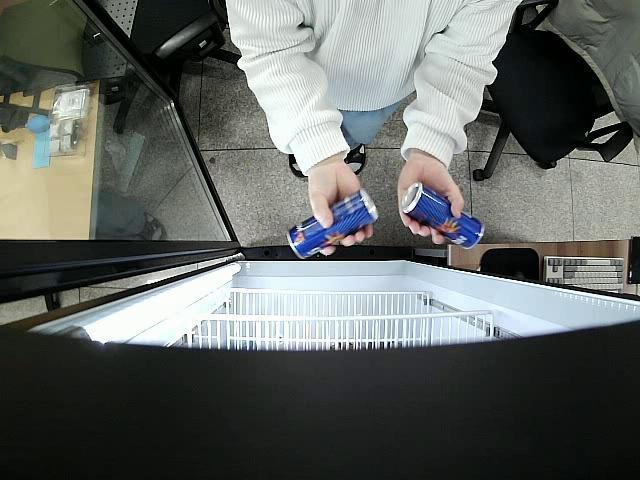16_hot6: (288, 190, 378, 259), (402, 182, 486, 248)
